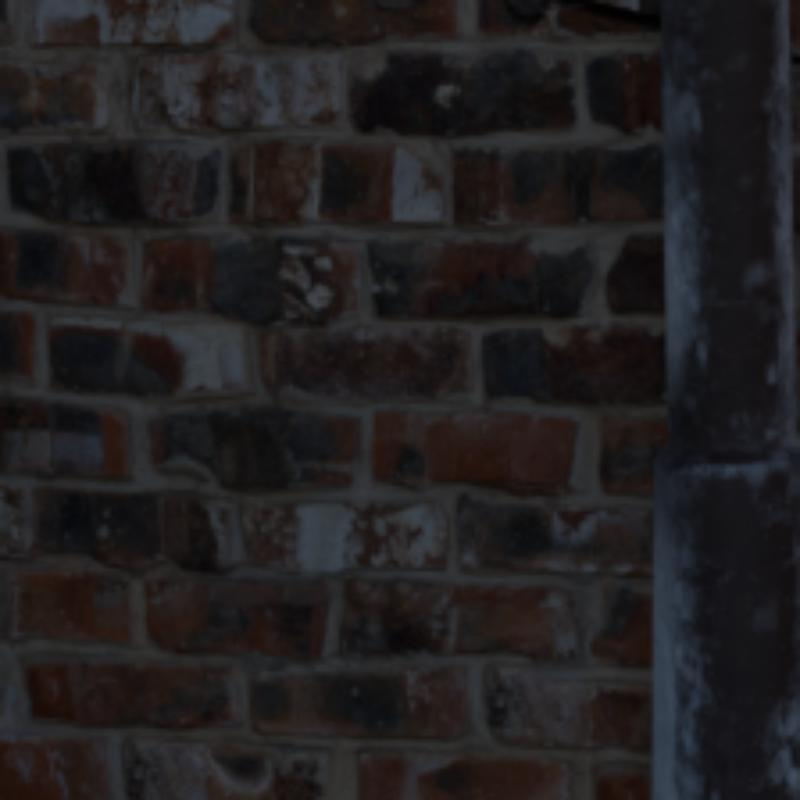pothole: (496, 0, 657, 25)
